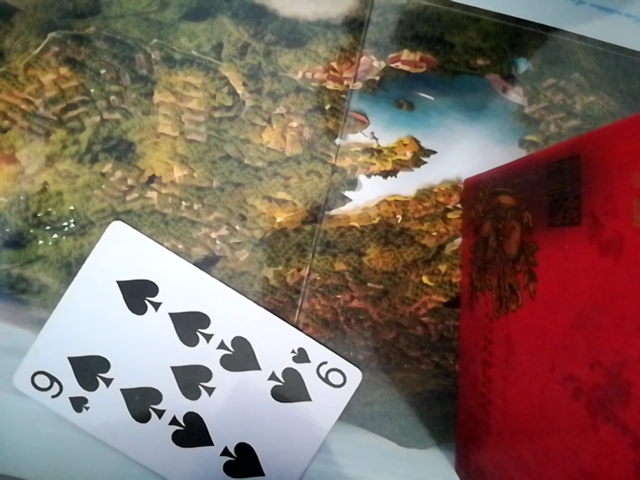ht 9: (8, 216, 371, 479)
